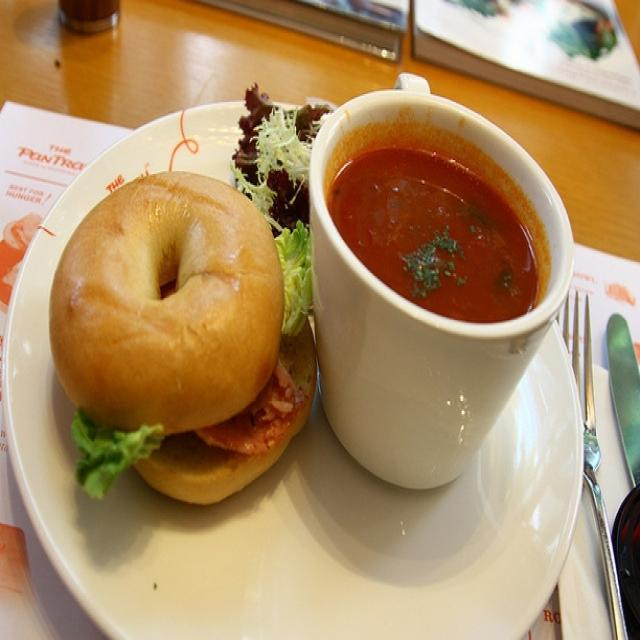面包点心: (25, 39, 590, 615)
